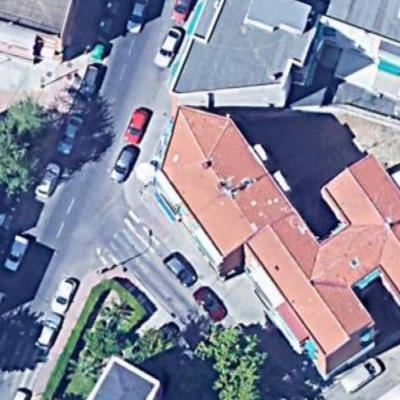tree: (175, 324, 263, 400), (1, 94, 49, 203), (85, 323, 120, 359), (65, 369, 100, 400)
